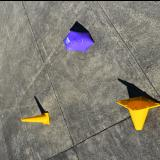cone: (117, 95, 160, 129), (22, 112, 49, 124)
cube: (62, 29, 94, 51)
